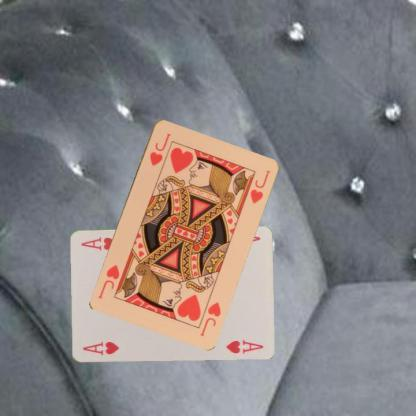Ah: (80, 339, 120, 357)
Jh: (197, 299, 222, 337), (147, 130, 172, 167)
